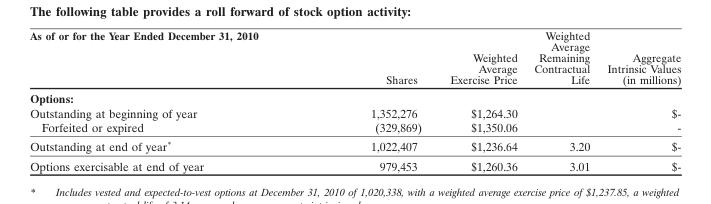table: (29, 28, 680, 172)
table column: (29, 28, 313, 172), (313, 28, 435, 172), (435, 28, 525, 172), (597, 28, 680, 172), (525, 28, 597, 172)
table column header: (29, 28, 680, 88)
table projected row header: (29, 88, 680, 105)
table row: (29, 28, 680, 88), (29, 136, 680, 155), (29, 88, 680, 105), (29, 119, 680, 136), (29, 155, 680, 172), (29, 105, 680, 119)
